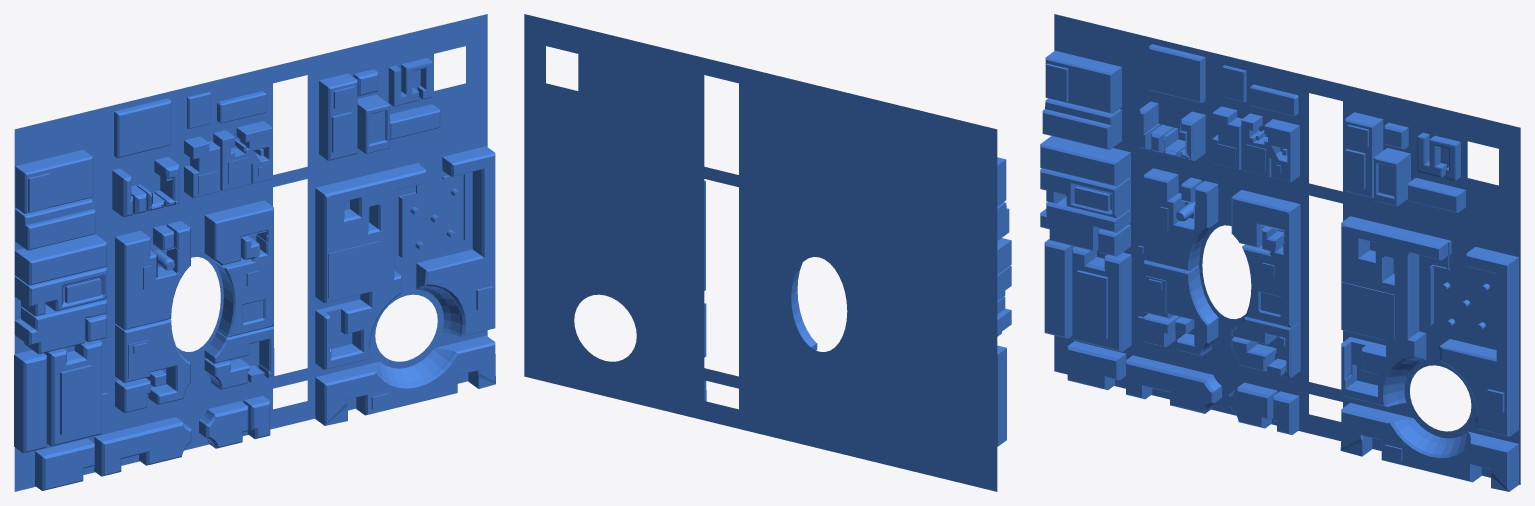
Rendered from iranmall5.glb.
3 renders of one model, left to right at view 1: azimuth 30°, elevation 25°; view 2: azimuth 150°, elevation 25°; view 3: azimuth 330°, elevation 25°, orthographic.
Visible parts, largest first — view 1: Plane.001; view 2: Plane.001; view 3: Plane.001.
Boxes of the visible parts, x1,y1,x2,y2 form: Plane.001: (14, 14, 495, 491); Plane.001: (524, 14, 1011, 491); Plane.001: (1040, 14, 1520, 491).
Bounding box in the file's own units: 27.44 × 20.08 × 1.62.
